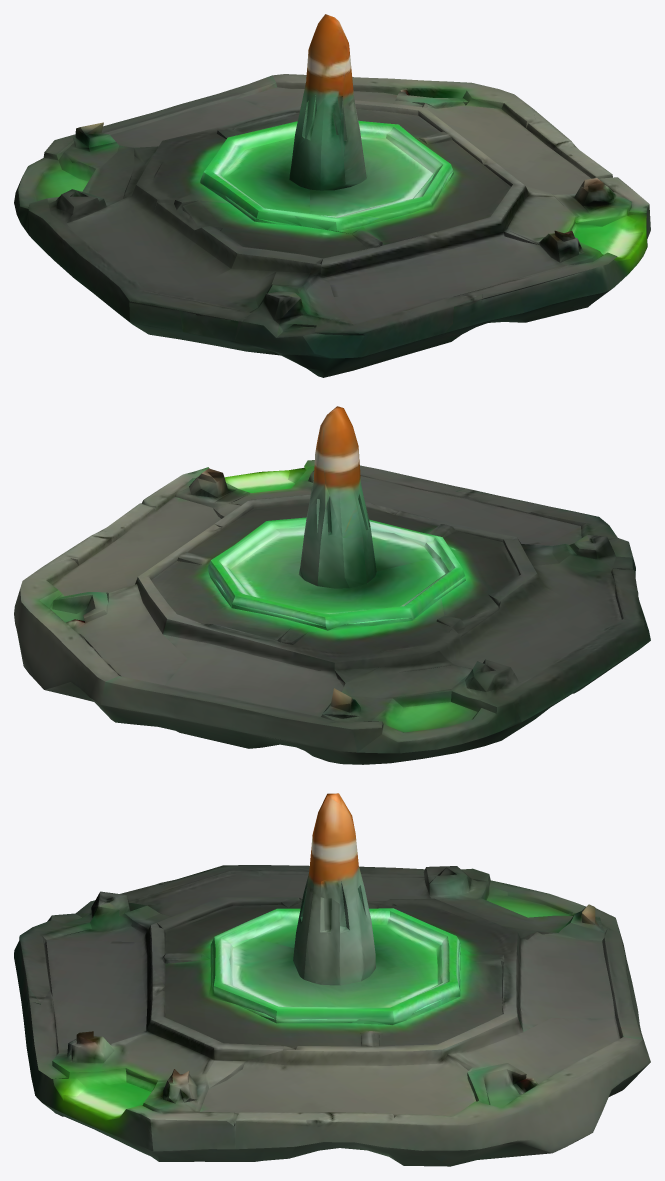
File: landingPad.glb
The picture shows the model from 3 angles, top to bottom: view 1: azimuth 30°, elevation 25°; view 2: azimuth 150°, elevation 25°; view 3: azimuth 270°, elevation 25°; orthographic projection. The views are drawn at different scales.
Visible parts, largest first — view 1: model; view 2: model; view 3: model.
Boxes of the visible parts, bbox=[...] form: model: bbox=[14, 14, 650, 377]; model: bbox=[14, 406, 650, 764]; model: bbox=[14, 793, 650, 1166].
Bounding box in the file's own units: 1.89 × 0.8244 × 1.9.
Materials: 1 (1 with a texture image).
